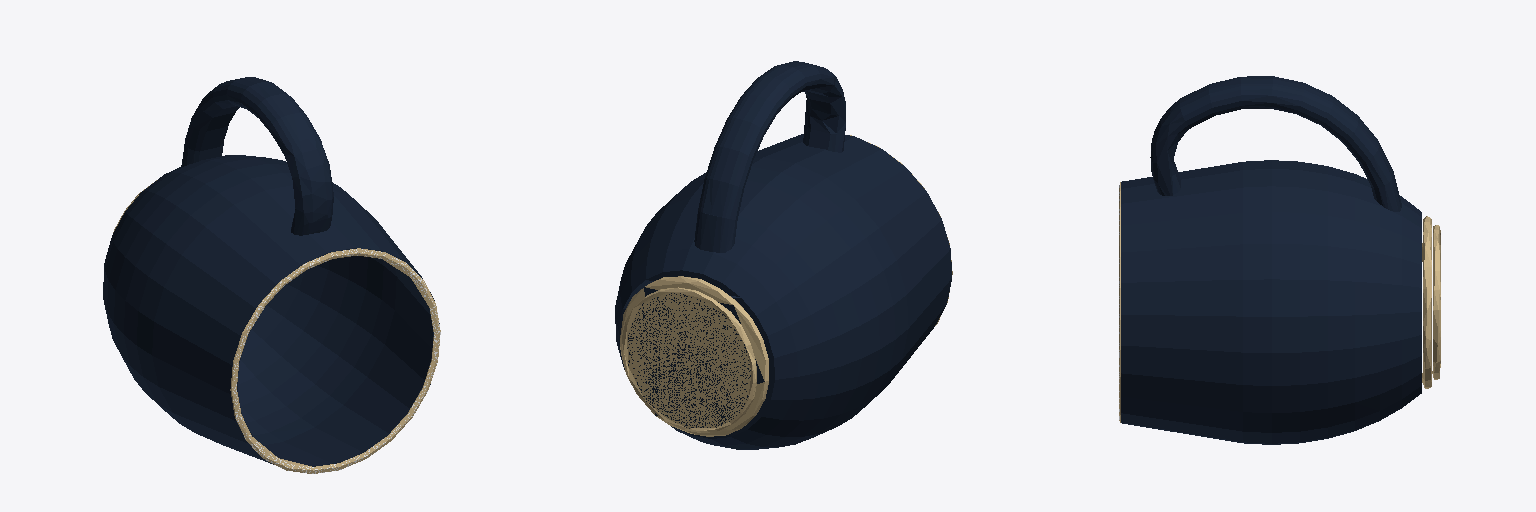
The model's file is model_align.obj.
The picture shows the model from 3 angles: view 1: azimuth 30°, elevation 25°; view 2: azimuth 150°, elevation 25°; view 3: azimuth 270°, elevation 25°; orthographic projection.
Bounding box in the file's own units: 0.0767 × 0.1044 × 0.0867.